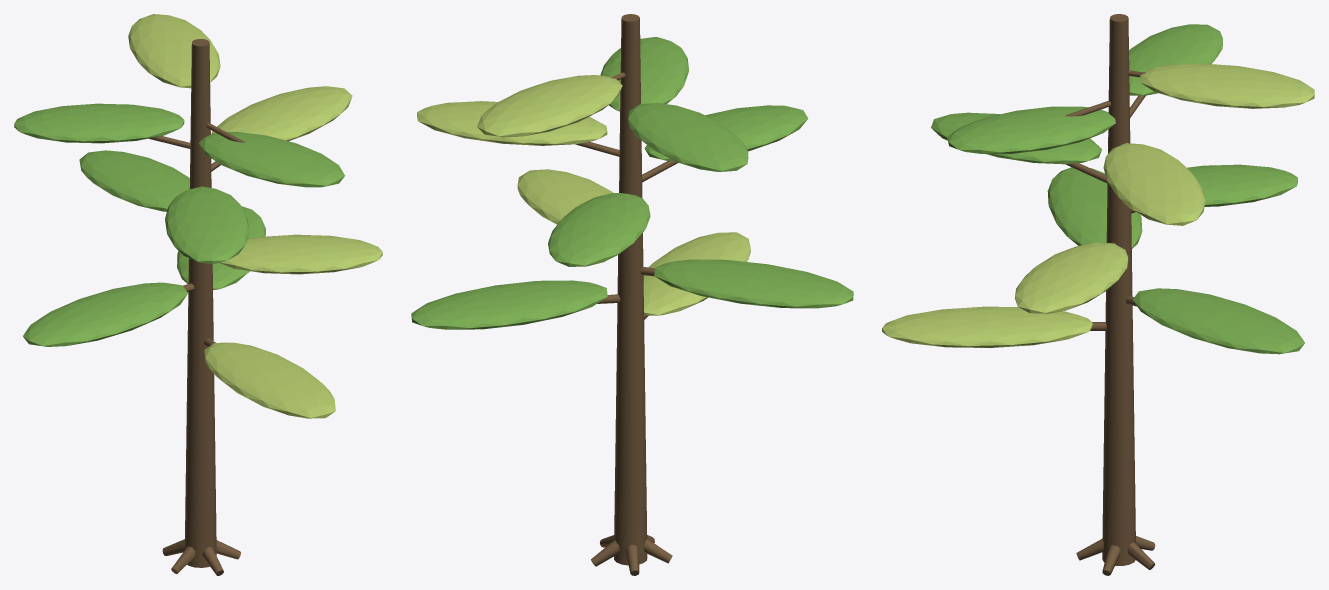
The model's file is short-jungle-palm.glb.
3 renders of one model, left to right at view 1: azimuth 30°, elevation 25°; view 2: azimuth 150°, elevation 25°; view 3: azimuth 270°, elevation 25°, orthographic. The views are drawn at different scales.
Visible parts, largest first — view 1: trunk, foliage-2, foliage-0, foliage-7, foliage-8, foliage-5, foliage-3, foliage-6, foliage-4, foliage-9, foliage-1; view 2: trunk, foliage-2, foliage-1, foliage-9, foliage-7, foliage-4, foliage-6, foliage-0, foliage-8, foliage-3, foliage-5; view 3: trunk, foliage-0, foliage-1, foliage-6, foliage-9, foliage-8, foliage-3, foliage-2, foliage-7, foliage-4, foliage-5.
Part boxes in pixels (<box>): trunk: <box>185,39,216,567</box>; foliage-2: <box>23,282,187,346</box>; foliage-0: <box>204,342,335,418</box>; foliage-7: <box>14,103,184,143</box>; foliage-8: <box>199,132,344,187</box>; foliage-5: <box>165,186,249,264</box>; foliage-3: <box>219,234,382,274</box>; foliage-6: <box>211,86,352,141</box>; foliage-4: <box>79,150,189,211</box>; foliage-9: <box>128,14,220,88</box>; foliage-1: <box>177,206,265,290</box>; trunk: <box>614,14,647,565</box>; foliage-2: <box>654,259,853,308</box>; foliage-1: <box>411,280,607,329</box>; foliage-9: <box>477,75,622,137</box>; foliage-7: <box>628,103,748,171</box>; foliage-4: <box>548,193,650,266</box>; foliage-6: <box>417,101,607,145</box>; foliage-0: <box>643,232,750,315</box>; foliage-8: <box>600,37,689,111</box>; foliage-3: <box>517,169,613,224</box>; foliage-5: <box>644,105,808,161</box>; trunk: <box>1102,14,1135,565</box>; foliage-0: <box>882,306,1092,347</box>; foliage-1: <box>1132,288,1304,354</box>; foliage-6: <box>1103,143,1205,225</box>; foliage-9: <box>1140,63,1314,108</box>; foliage-8: <box>947,106,1115,153</box>; foliage-3: <box>1015,242,1128,313</box>; foliage-2: <box>1047,167,1142,248</box>; foliage-7: <box>1129,24,1222,95</box>; foliage-4: <box>1187,164,1297,206</box>; foliage-5: <box>931,112,1101,164</box>.
Bounding box in the file's own units: 3.41 × 4.62 × 3.34.
